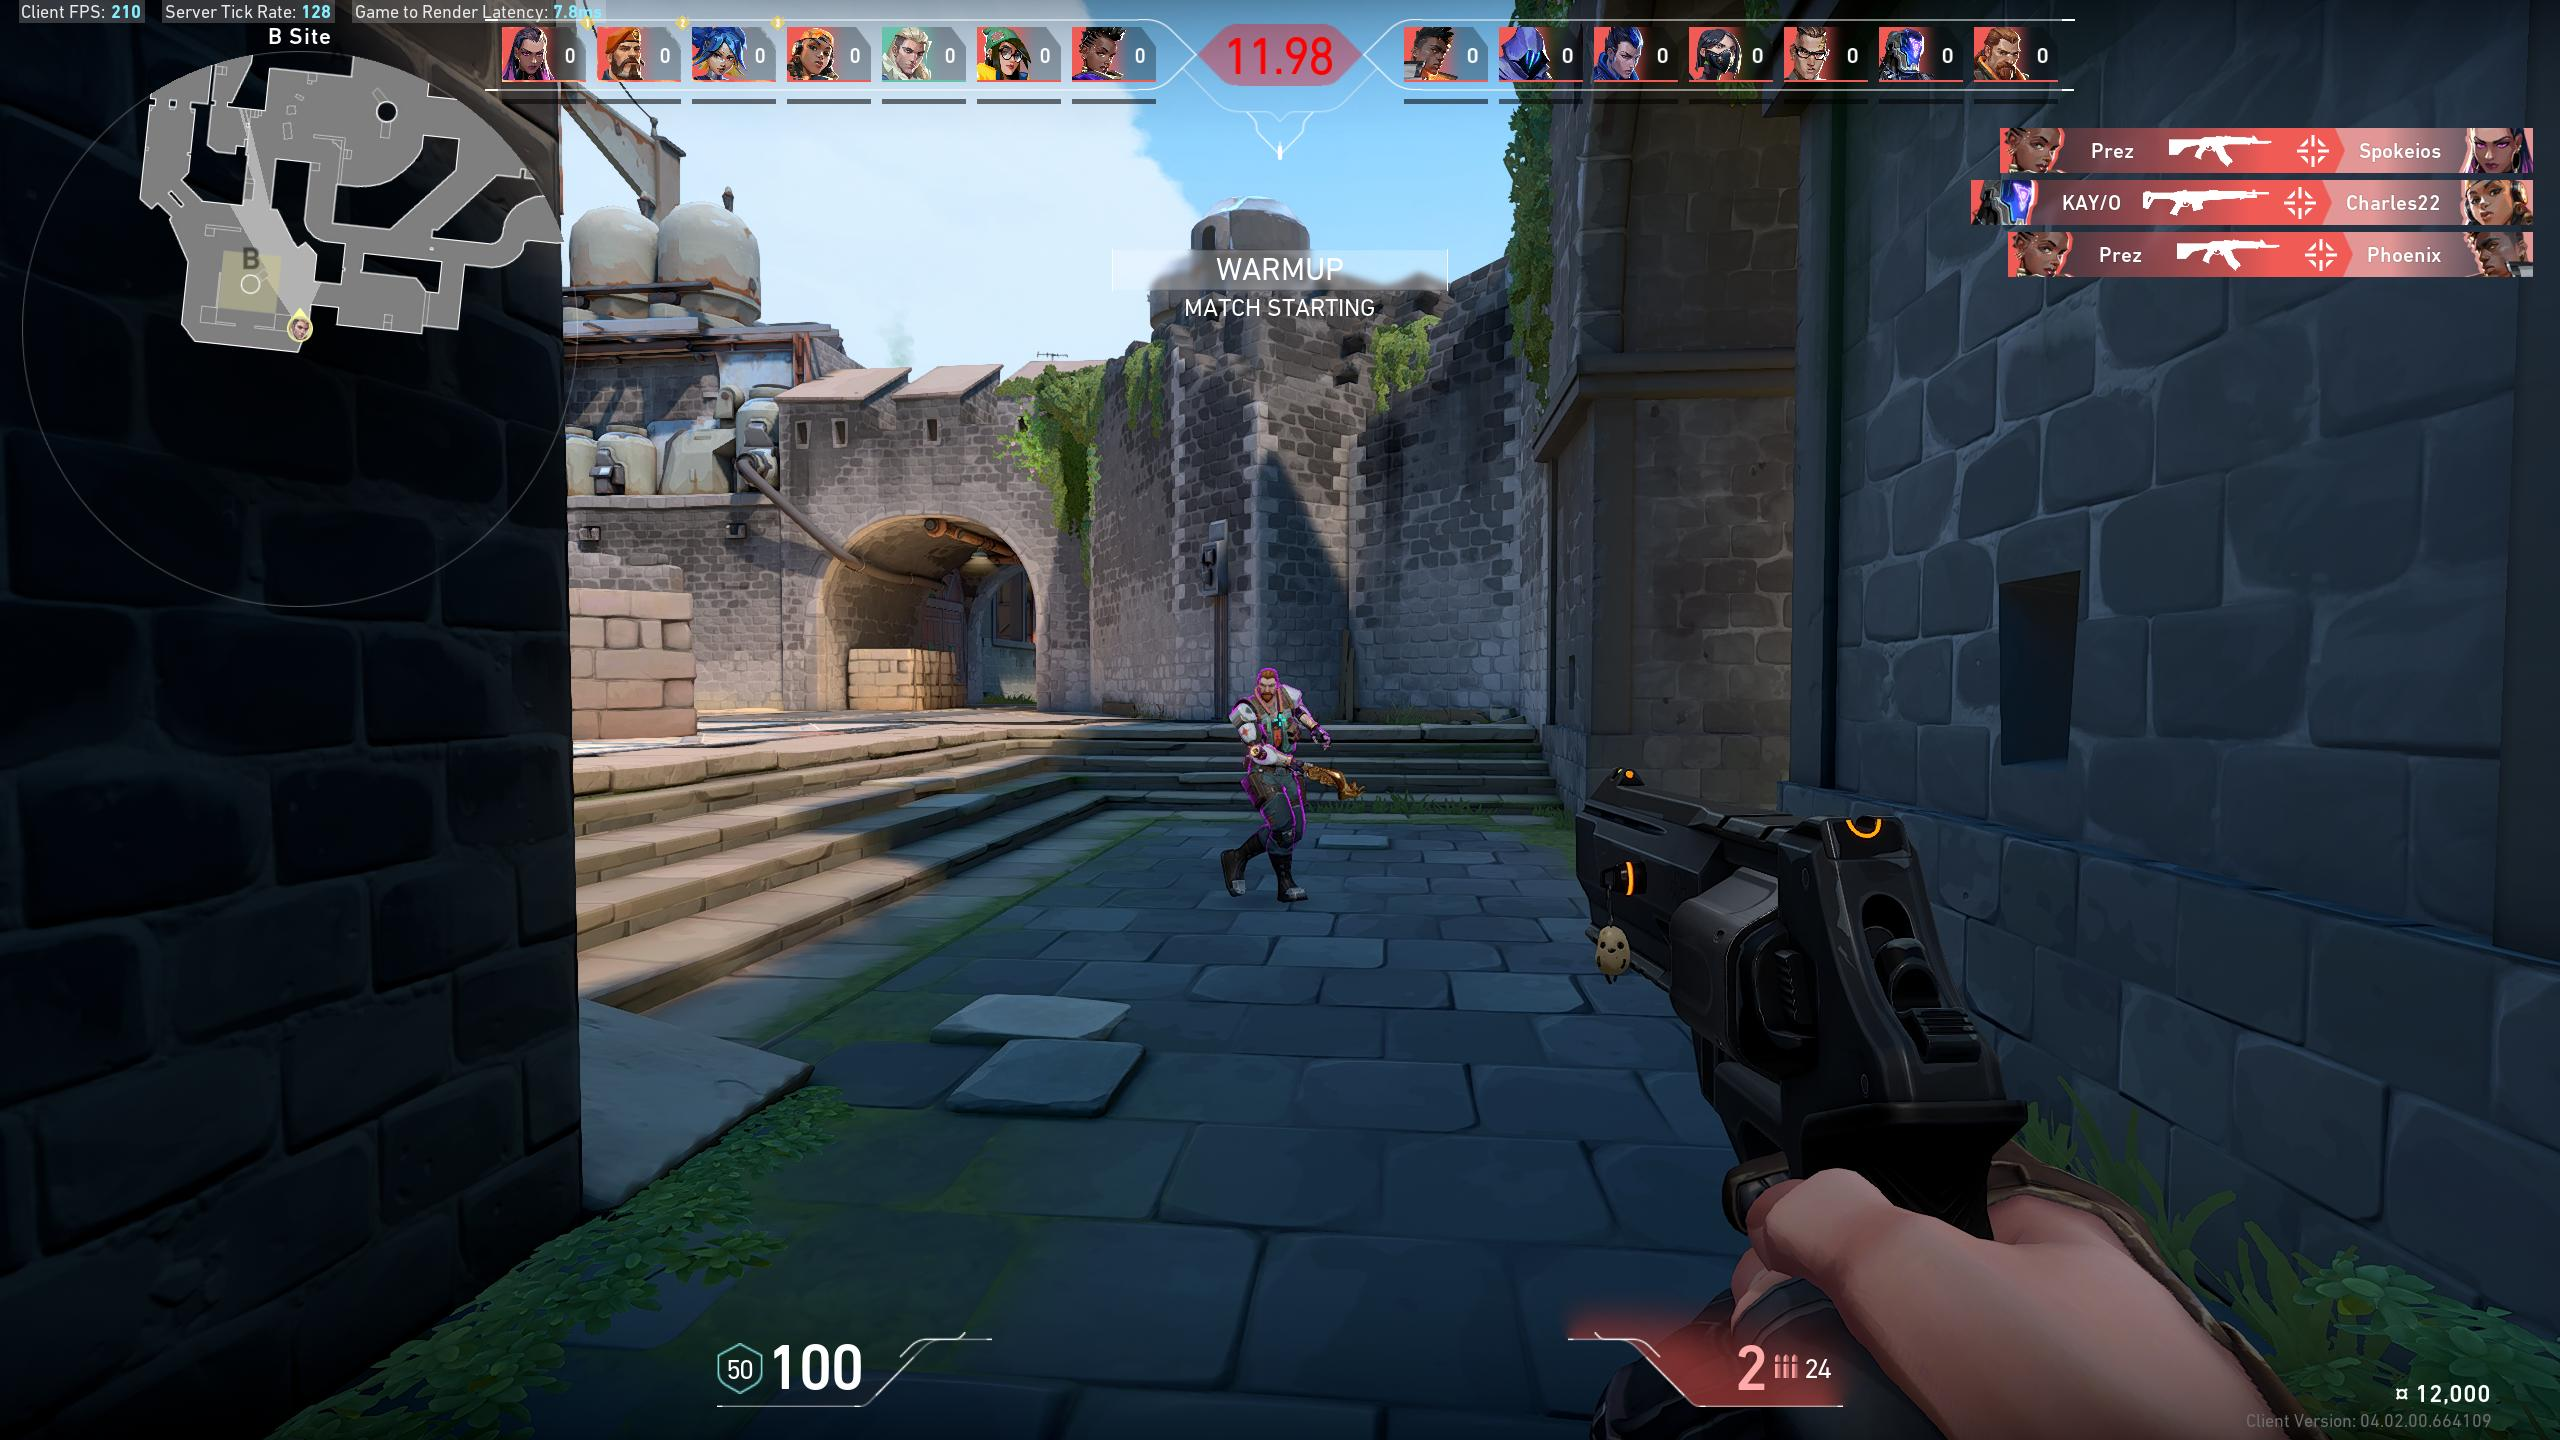enemyBody: (1255, 703, 1287, 770)
enemyHead: (1262, 672, 1276, 702)
